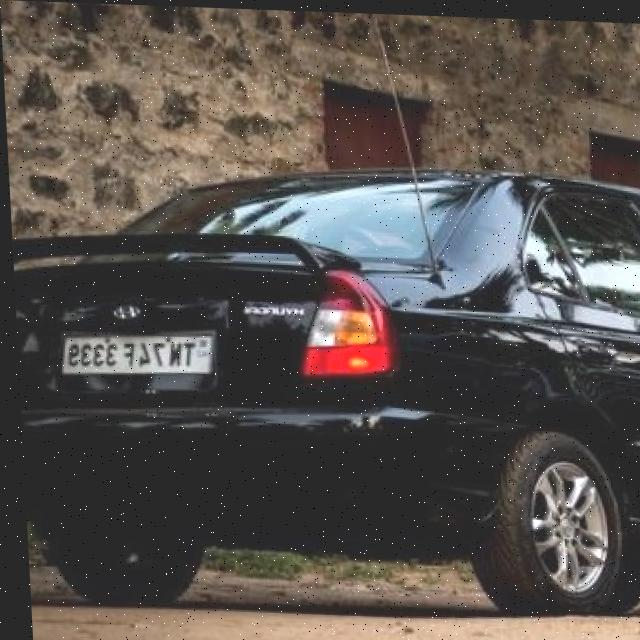plate: (55, 322, 216, 384)
